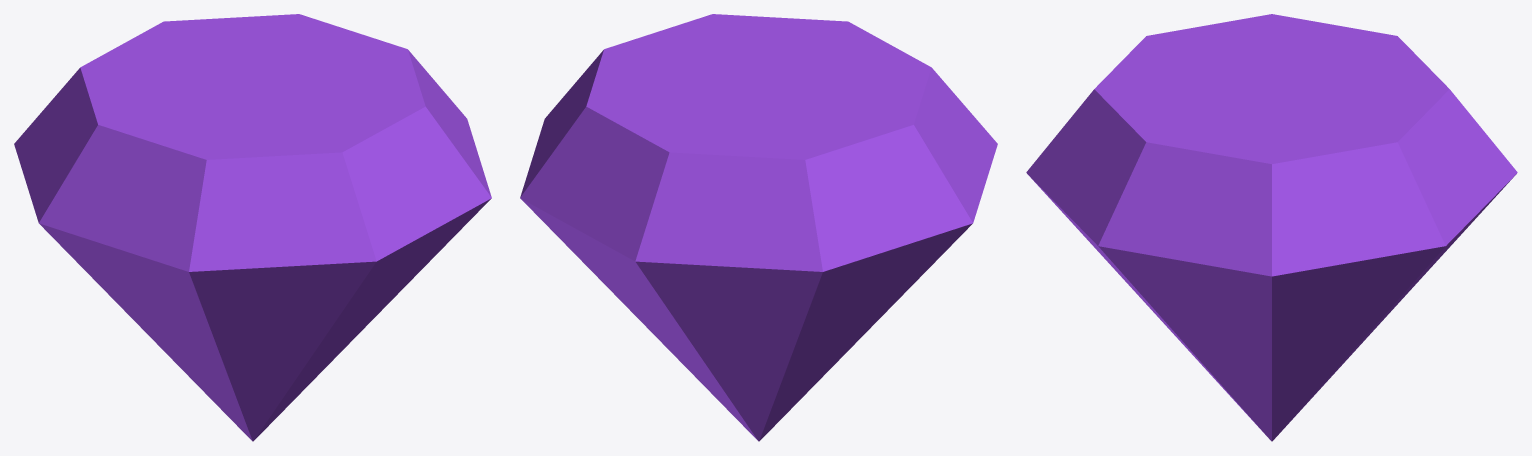
Rendered from Diamond_Purple.fbx.
3 renders of one model, left to right at view 1: azimuth 30°, elevation 25°; view 2: azimuth 150°, elevation 25°; view 3: azimuth 270°, elevation 25°, orthographic.
Visible parts, largest first — view 1: Diamond Purple; view 2: Diamond Purple; view 3: Diamond Purple.
Boxes of the visible parts, x1,y1,x2,y2 form: Diamond Purple: [14, 14, 491, 441]; Diamond Purple: [520, 14, 997, 441]; Diamond Purple: [1026, 14, 1517, 441].
Bounding box in the file's own units: 59.1 × 46.79 × 59.1.
Materials: 1 (1 with a texture image).
